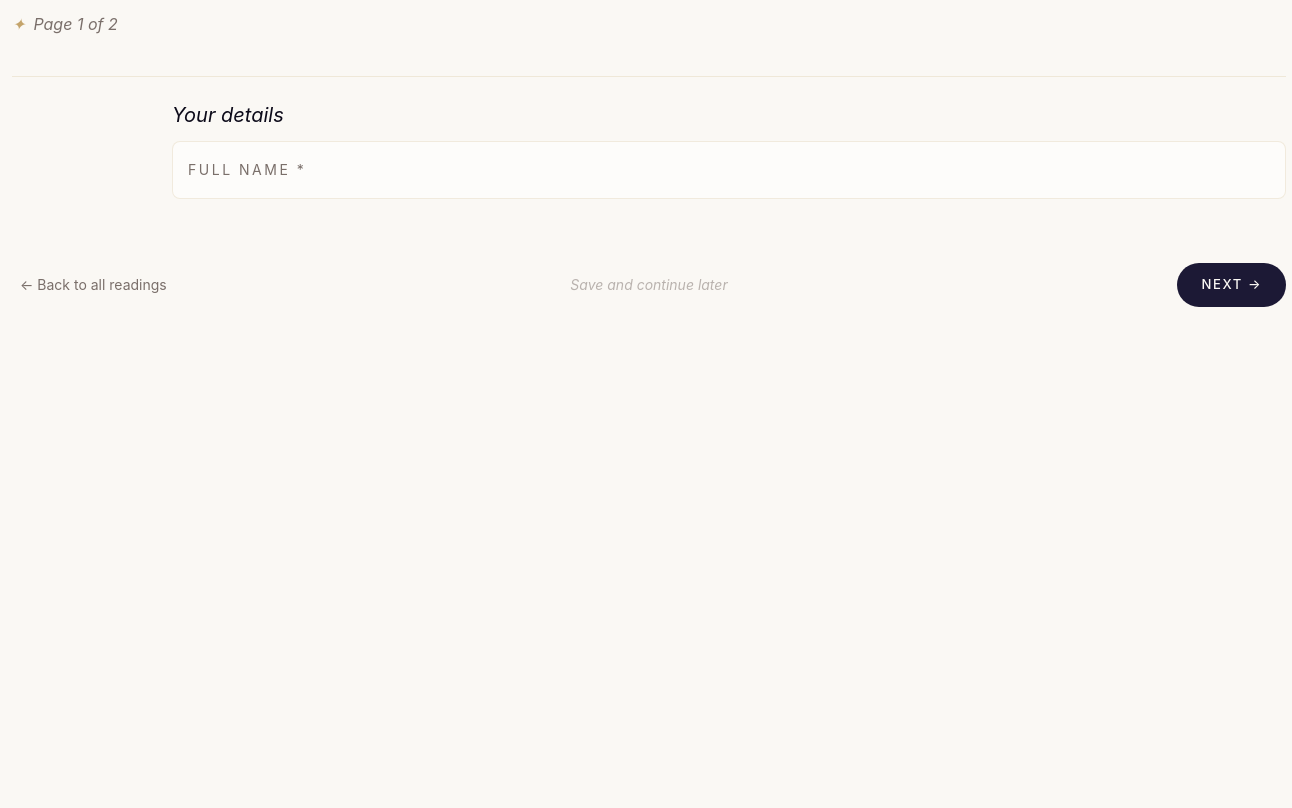
Test case: IntakeForm — paginated flow › returns the user to the section's page when Edit is clicked from the review
Step 1. Type "Ada Lovelace" into the field labelled "Full name *" → (729, 170), box [172,141,1286,199]
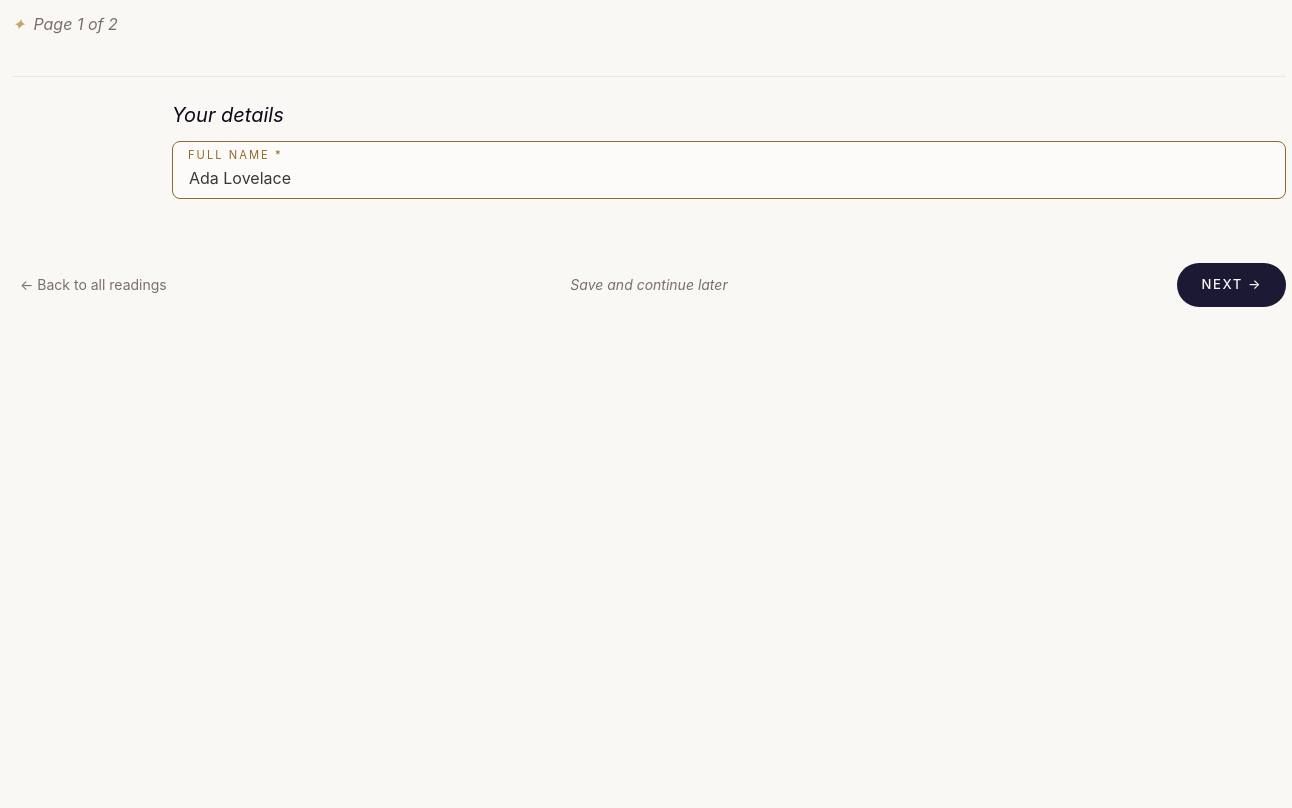
Step 2. Click the button "Next →" → (1232, 285), box [1178,263,1286,307]
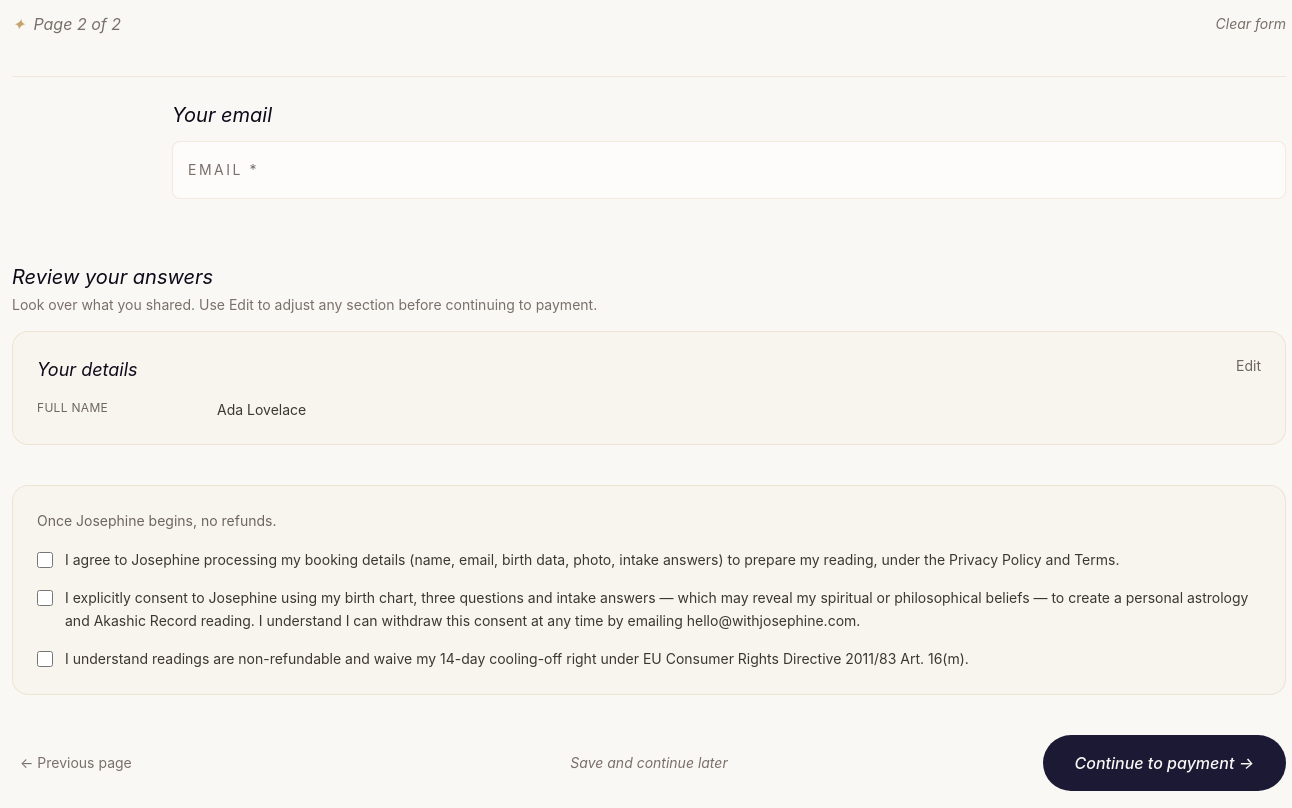
Step 3. Click the button with aria-label "Edit Your details" → (1248, 366), box [1236,356,1261,376]
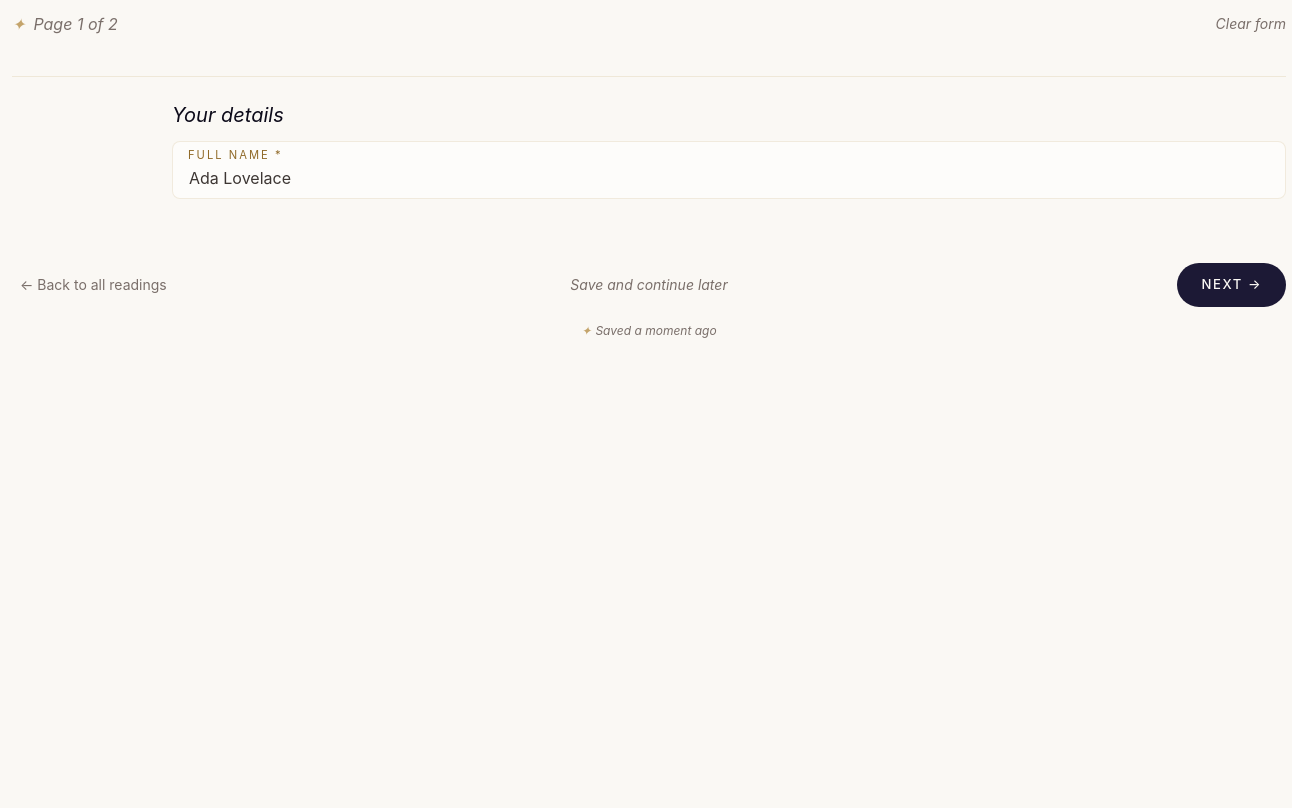
Check: the field labelled "Full name *" holds "Ada Lovelace", box [172,141,1286,199]
Check: the heading "Your email" is gone
